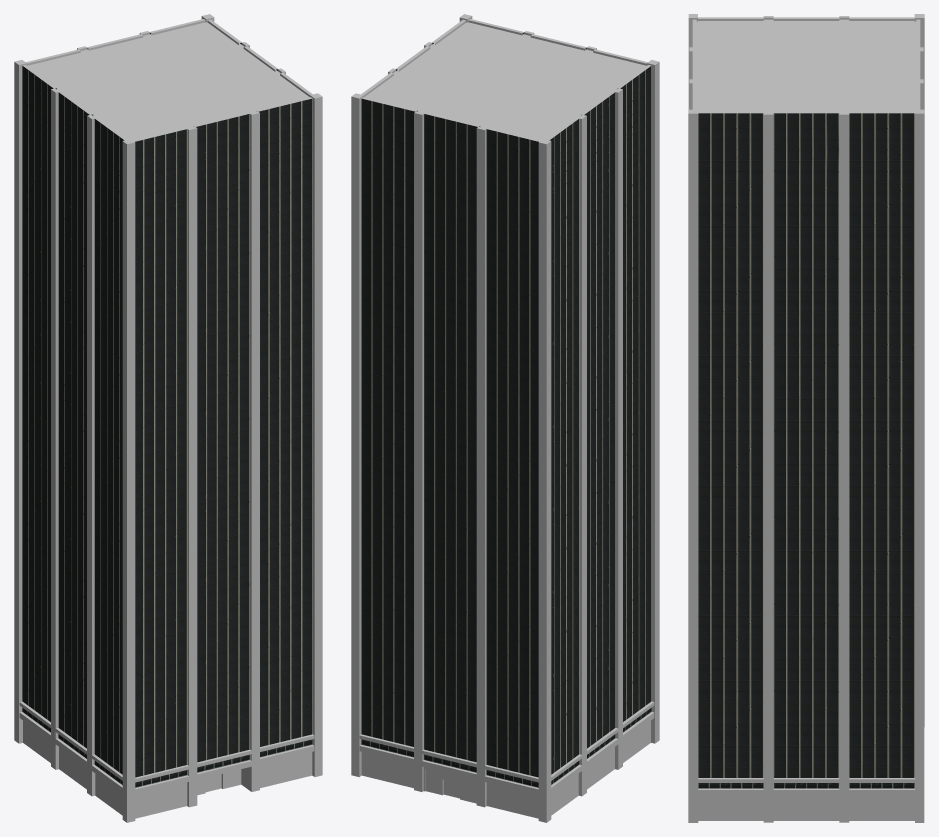
Rendered from Office-04-C.fbx.
3 renders of one model, left to right at view 1: azimuth 30°, elevation 25°; view 2: azimuth 150°, elevation 25°; view 3: azimuth 270°, elevation 25°, orthographic. The views are drawn at different scales.
Parts seen in each view (by area): view 1: Building; view 2: Building; view 3: Building.
Boxes of the visible parts, left/top/right/bottom form: Building: left=14, top=14, right=322, bottom=822; Building: left=351, top=14, right=659, bottom=822; Building: left=688, top=14, right=924, bottom=822.
Size of what is drawn, in the model's own units: 29.63 by 98.2 by 29.63.
